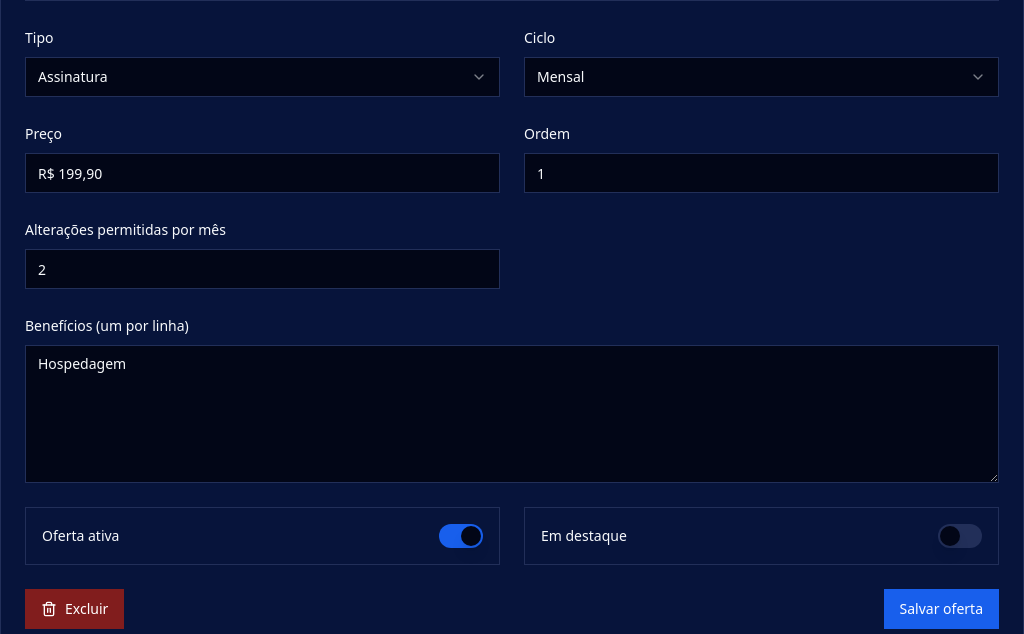
Test: OfferForm › exibe o código retornado pela API quando a exclusão falha
This screenshot has width=1024, height=634.
(page scrolled)
Click the button "Excluir" at (75, 609), box [25,589,124,629]
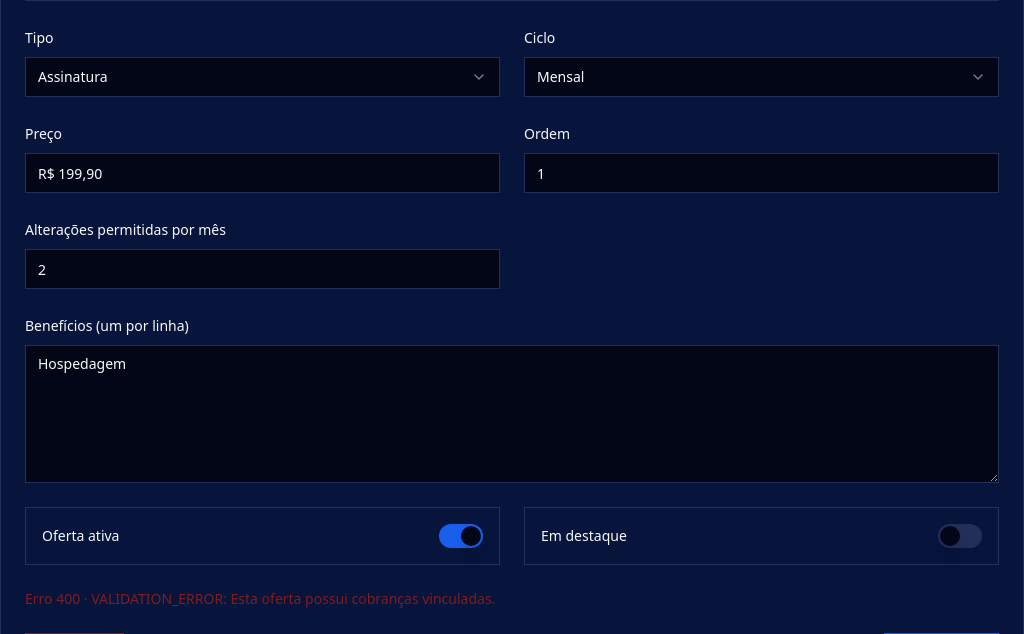
Expected: the text "Erro 400 · VALIDATION_ERROR: Esta oferta possui cobranças vinculadas." is shown, [25,589,495,608]
